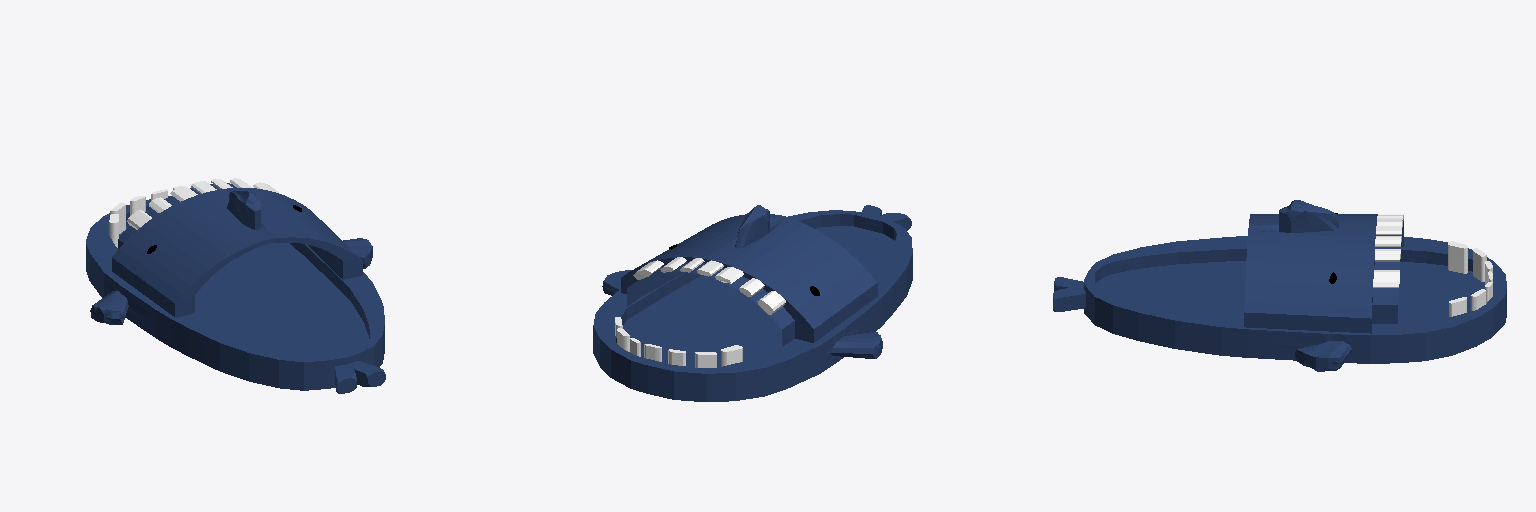
The model's file is SandalHiu.obj.
3 views of the same model, side by side, from view 1: azimuth 30°, elevation 25°; view 2: azimuth 150°, elevation 25°; view 3: azimuth 270°, elevation 25° (orthographic).
Visible parts, largest first — view 1: Plane; view 2: Plane; view 3: Plane.
Part boxes in pixels (left/top/right/bottom): Plane: left=86, top=178, right=385, bottom=393; Plane: left=593, top=205, right=912, bottom=401; Plane: left=1053, top=200, right=1506, bottom=371.
Size of the model in its own units: 8.84 by 3.51 by 12.73.